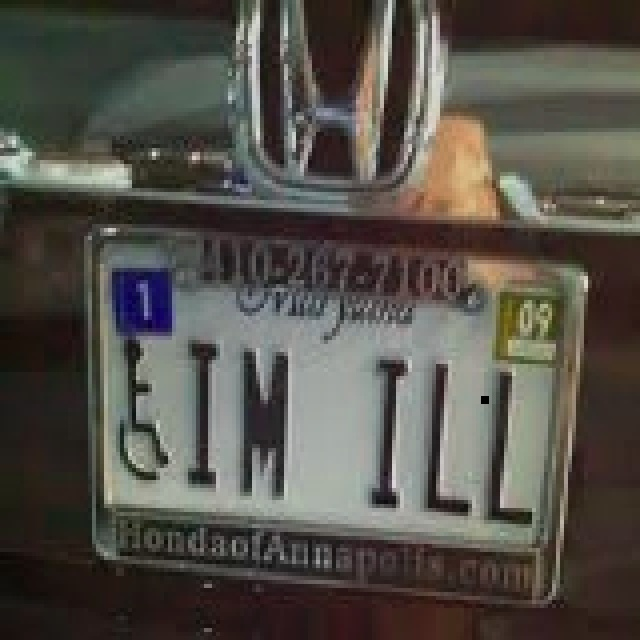ISA: (105, 334, 175, 492)
